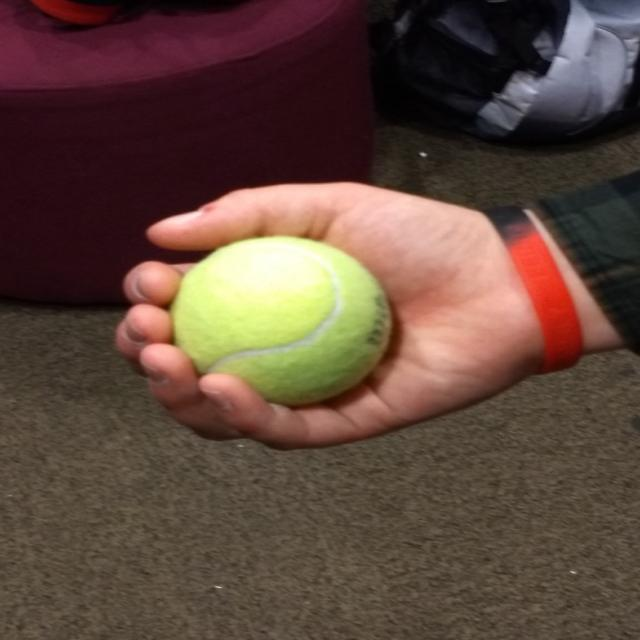Tennis-Ball: (159, 237, 407, 410)
